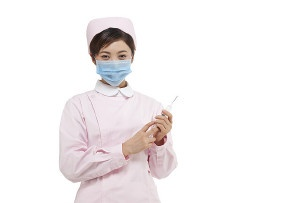Mask: (95, 46, 134, 86)
